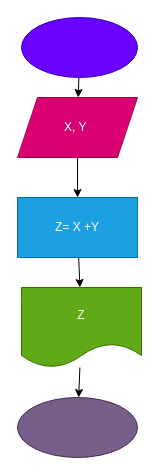
Some shapes in this 159 by 475 pixel diagram are drawn without their labels. The centre of each missing label's shape, as x and y in pixels:
FIN: point (77, 427)
INCICIO: point (79, 47)
